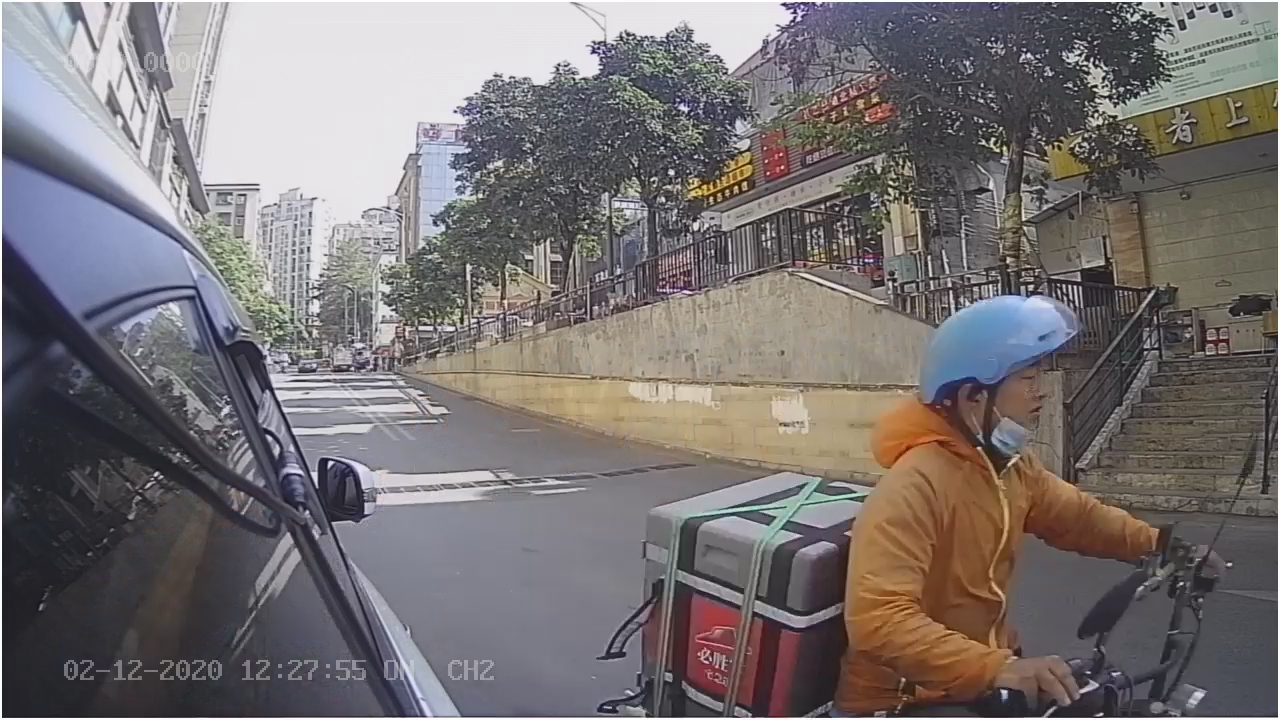person: (836, 259, 1184, 703)
